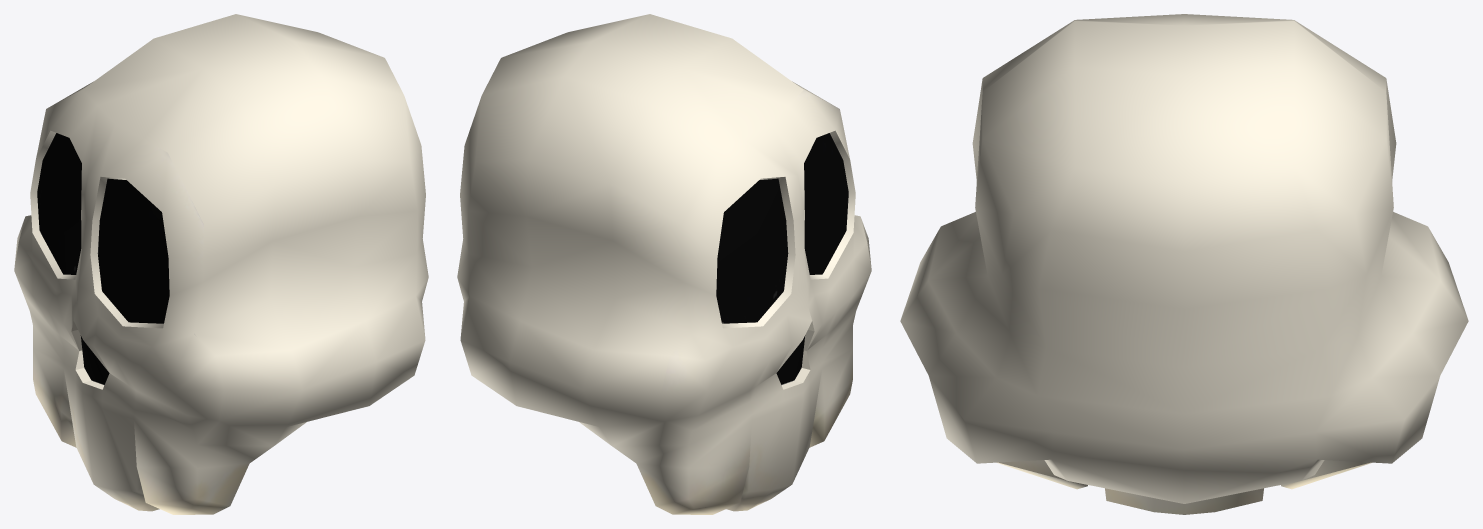
The model's file is skull1.glb.
3 views of the same model, side by side, from view 1: azimuth 30°, elevation 25°; view 2: azimuth 150°, elevation 25°; view 3: azimuth 270°, elevation 25° (orthographic). The views are drawn at different scales.
Parts seen in each view (by area): view 1: Box001; view 2: Box001; view 3: Box001.
Part boxes in pixels (<box>): Box001: <box>14,14,428,514</box>; Box001: <box>457,14,871,514</box>; Box001: <box>900,14,1468,514</box>.
Bounding box in the file's own units: 1.16 × 1.42 × 1.35.
1 material, 1 textured.
